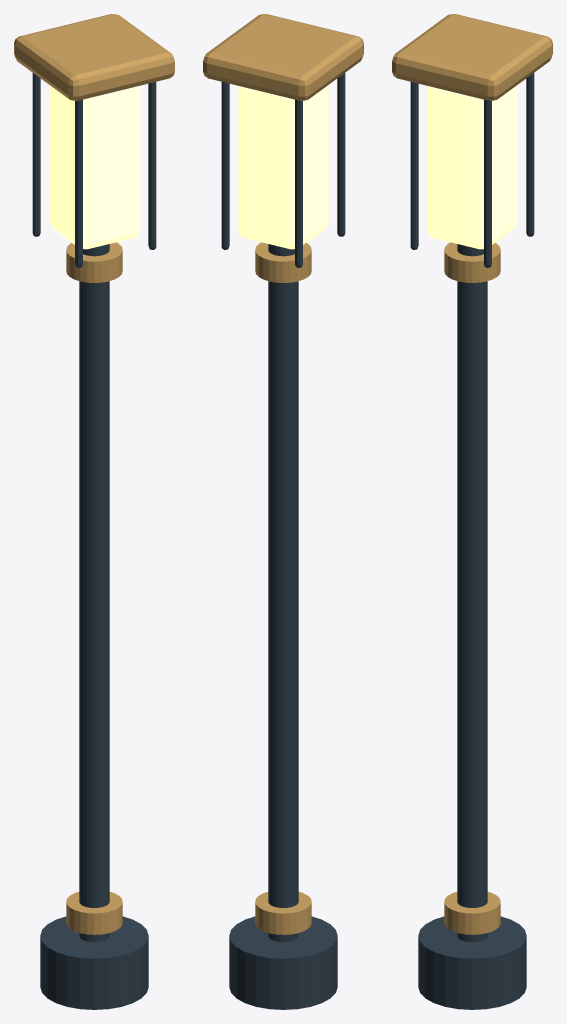
Rendered from SM_StreetLamp.fbx.
The picture shows the model from 3 angles, left to right: view 1: azimuth 30°, elevation 25°; view 2: azimuth 150°, elevation 25°; view 3: azimuth 330°, elevation 25°; orthographic projection.
Visible parts, largest first — view 1: SM_StreetLamp; view 2: SM_StreetLamp; view 3: SM_StreetLamp.
Boxes of the visible parts, x1,y1,x2,y2 form: SM_StreetLamp: (14, 14, 174, 1009); SM_StreetLamp: (203, 14, 363, 1009); SM_StreetLamp: (392, 14, 552, 1009).
Size of the model in its own units: 52 by 52 by 441.
